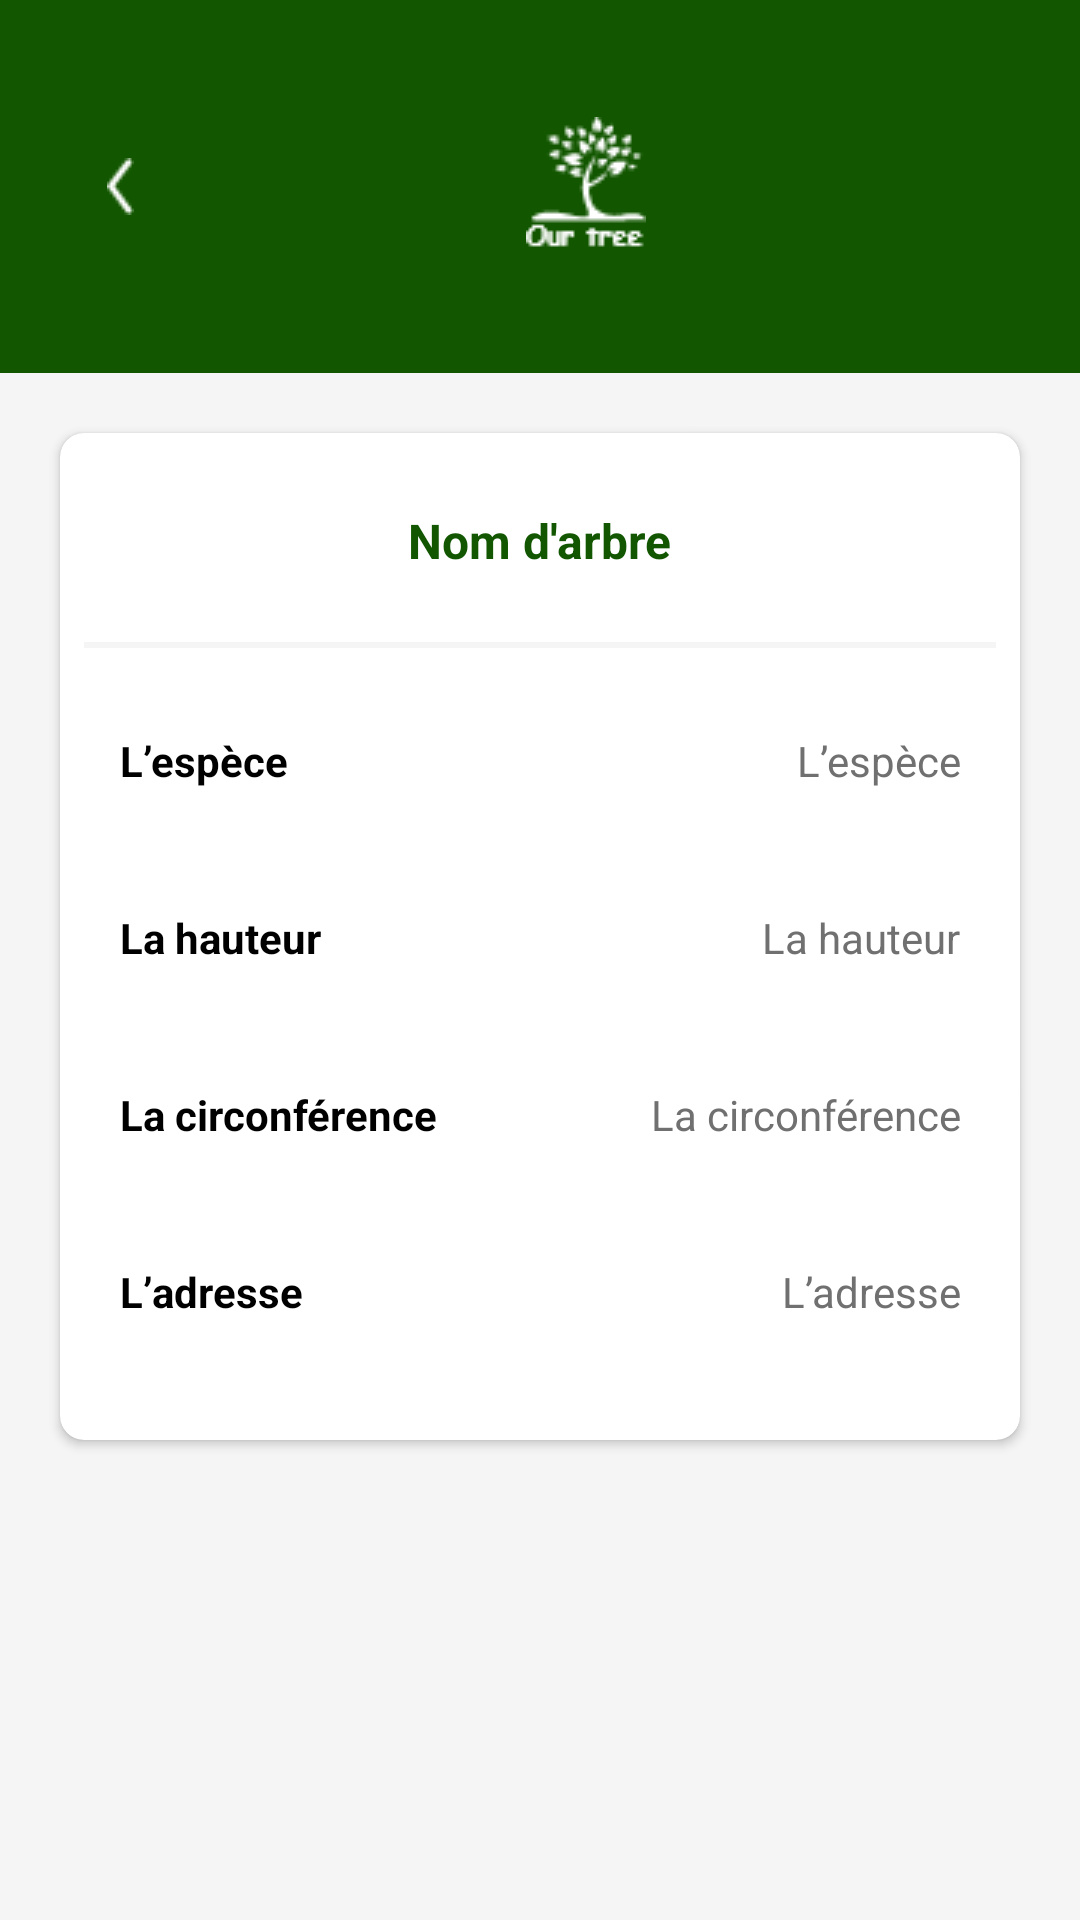

Icons on this 1080 x 1920 Android screen, each with the point to tap as (x,y):
back: (120,186)
